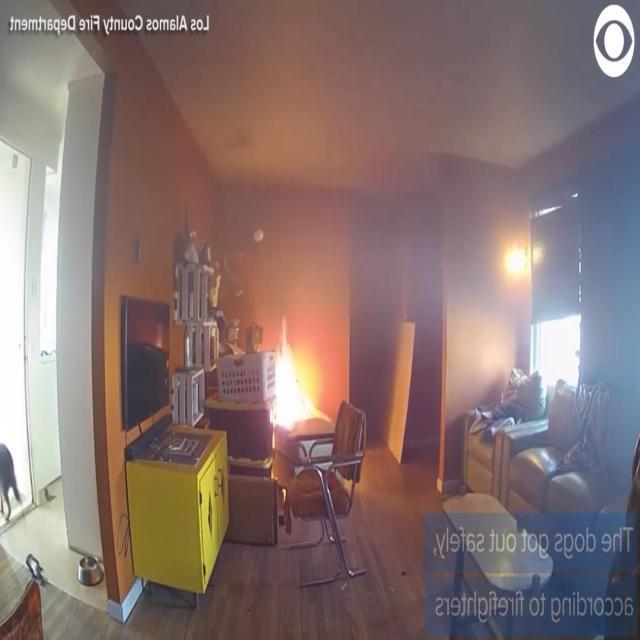smoke: (268, 316, 326, 432)
